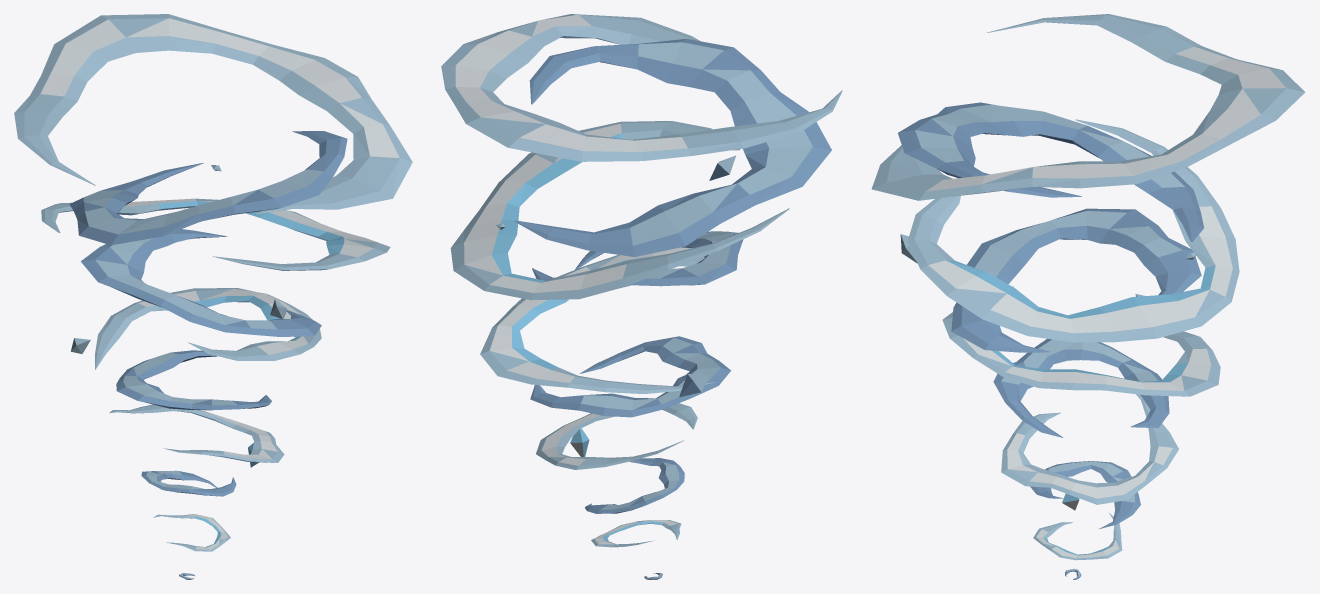
File: Breeze.glb
The picture shows the model from 3 angles, left to right: view 1: azimuth 30°, elevation 25°; view 2: azimuth 150°, elevation 25°; view 3: azimuth 270°, elevation 25°; orthographic projection. The views are drawn at different scales.
Parts seen in each view (by area): view 1: Wind_Ribbon_10, Wind_Ribbon_09, Wind_Ribbon_07, Wind_Ribbon_06, Wind_Ribbon_08, Wind_Ribbon_05, Wind_Ribbon_04, Wind_Ribbon_03, Wind_Ribbon_02; view 2: Wind_Ribbon_09, Wind_Ribbon_10, Wind_Ribbon_08, Wind_Ribbon_06, Wind_Ribbon_05, Wind_Ribbon_07, Wind_Ribbon_04, Wind_Ribbon_03, Wind_Ribbon_02; view 3: Wind_Ribbon_10, Wind_Ribbon_08, Wind_Ribbon_09, Wind_Ribbon_07, Wind_Ribbon_06, Wind_Ribbon_04, Wind_Ribbon_05, Wind_Ribbon_03, Wind_Ribbon_02.
Part boxes in pixels (x1,y1,x2,y2): Wind_Ribbon_10: [14, 14, 412, 214]; Wind_Ribbon_09: [69, 131, 347, 245]; Wind_Ribbon_07: [81, 229, 321, 336]; Wind_Ribbon_06: [95, 288, 321, 369]; Wind_Ribbon_08: [41, 198, 390, 270]; Wind_Ribbon_05: [116, 350, 271, 410]; Wind_Ribbon_04: [109, 404, 284, 462]; Wind_Ribbon_03: [141, 470, 236, 496]; Wind_Ribbon_02: [153, 514, 230, 551]; Wind_Ribbon_09: [514, 38, 831, 256]; Wind_Ribbon_10: [441, 14, 842, 161]; Wind_Ribbon_08: [450, 121, 789, 300]; Wind_Ribbon_06: [480, 247, 715, 393]; Wind_Ribbon_05: [530, 336, 731, 417]; Wind_Ribbon_07: [532, 231, 743, 287]; Wind_Ribbon_04: [536, 403, 697, 469]; Wind_Ribbon_03: [585, 458, 684, 513]; Wind_Ribbon_02: [591, 520, 681, 547]; Wind_Ribbon_10: [871, 14, 1305, 200]; Wind_Ribbon_08: [907, 119, 1239, 342]; Wind_Ribbon_09: [898, 102, 1203, 241]; Wind_Ribbon_07: [951, 208, 1201, 352]; Wind_Ribbon_06: [942, 286, 1220, 396]; Wind_Ribbon_04: [1001, 394, 1178, 504]; Wind_Ribbon_05: [993, 338, 1169, 437]; Wind_Ribbon_03: [1030, 461, 1140, 528]; Wind_Ribbon_02: [1033, 513, 1122, 560].
Size of the model in its own units: 3.33 by 4.67 by 3.67.
